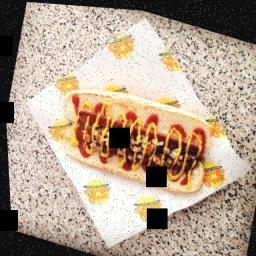hotdog: (71, 103, 206, 178)
